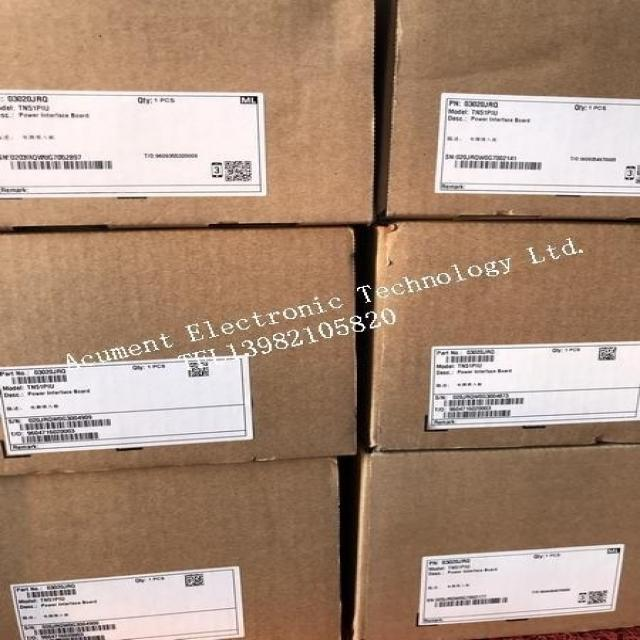box: (0, 226, 358, 478), (0, 0, 378, 233), (364, 223, 640, 452), (0, 457, 341, 639), (377, 0, 640, 223), (351, 444, 640, 640)
